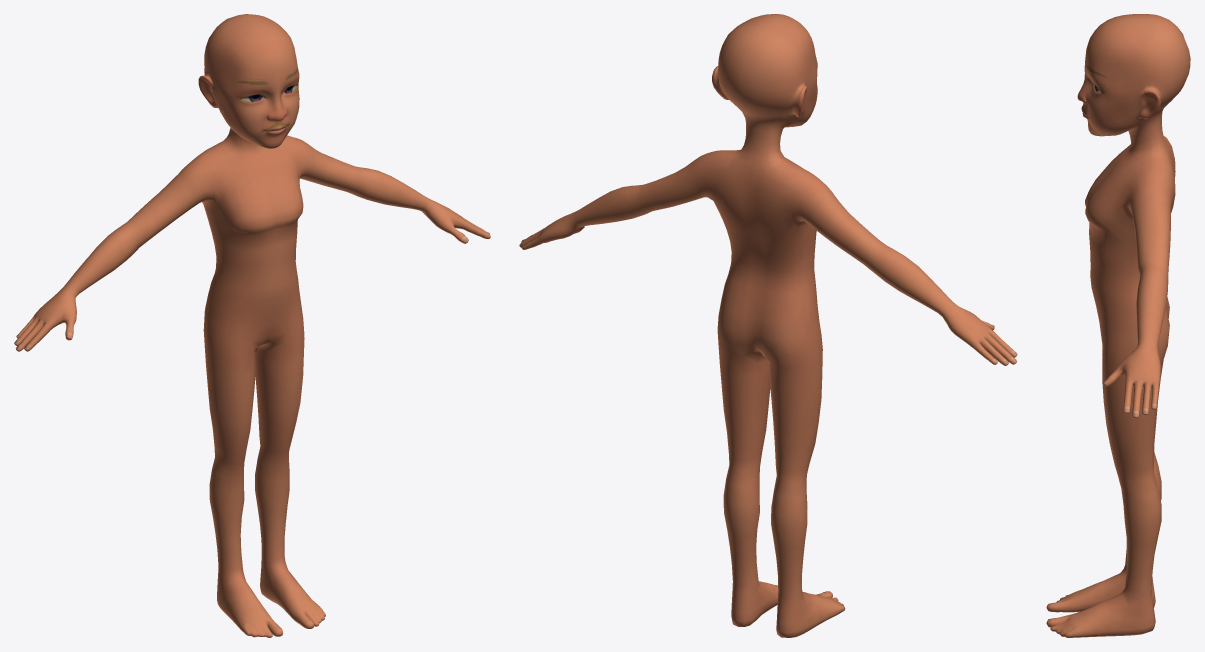
File: frame_0027.glb
3 views of the same model, side by side, from view 1: azimuth 30°, elevation 25°; view 2: azimuth 150°, elevation 25°; view 3: azimuth 270°, elevation 25° (orthographic). The views are drawn at different scales.
Parts seen in each view (by area): view 1: frame_0027_head_geo; view 2: frame_0027_head_geo; view 3: frame_0027_head_geo.
Part boxes in pixels (box(x1,y1,x2,y2)): frame_0027_head_geo: box(14, 14, 490, 637); frame_0027_head_geo: box(519, 14, 1017, 637); frame_0027_head_geo: box(1046, 14, 1190, 637).
Size of the model in its own units: 1.28 by 1.5 by 0.3253.
3 materials, 3 textured.
